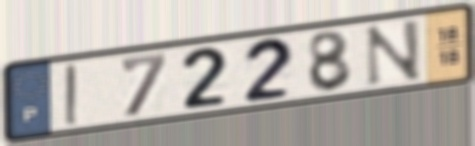2: (239, 34, 299, 108), (179, 44, 236, 113)
7: (117, 49, 170, 120)
8: (306, 29, 356, 94)
I: (62, 61, 82, 128)
N: (363, 17, 424, 89)
